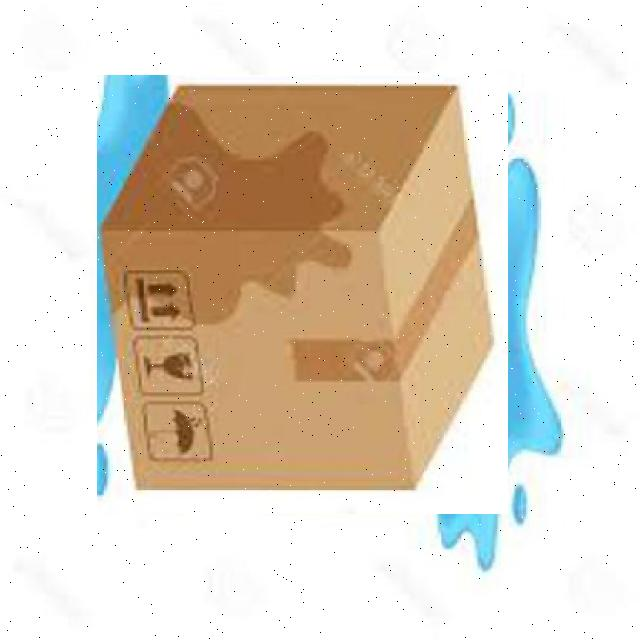defect: (97, 75, 508, 514)
